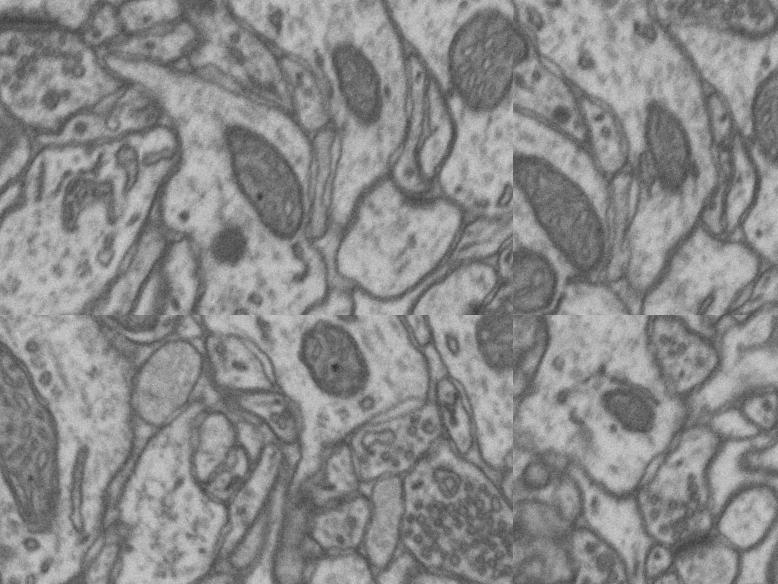mitochondria: (0, 317, 104, 547), (196, 113, 328, 250), (513, 144, 635, 280), (284, 315, 390, 415), (433, 0, 513, 126), (626, 89, 714, 201), (312, 37, 404, 140), (735, 46, 778, 180), (582, 373, 664, 442), (513, 234, 571, 315), (463, 315, 513, 392), (58, 315, 180, 346), (513, 4, 545, 82)
